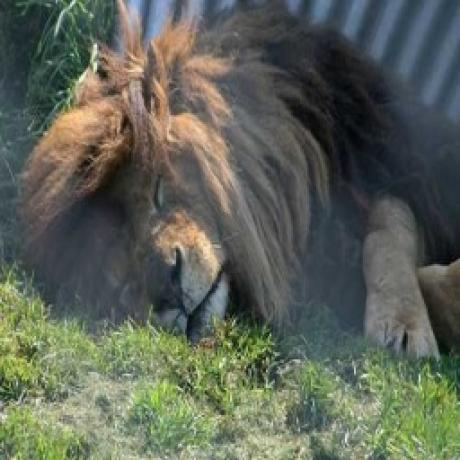Lion: (12, 3, 460, 376)
